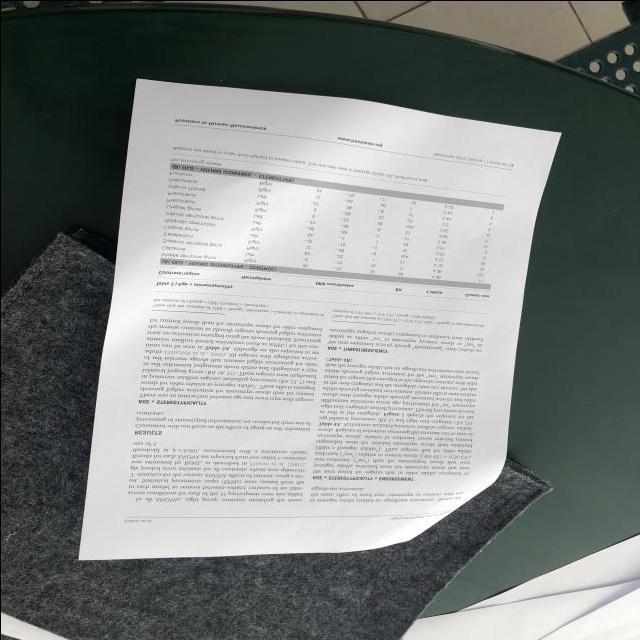kertas: (76, 71, 560, 610)
